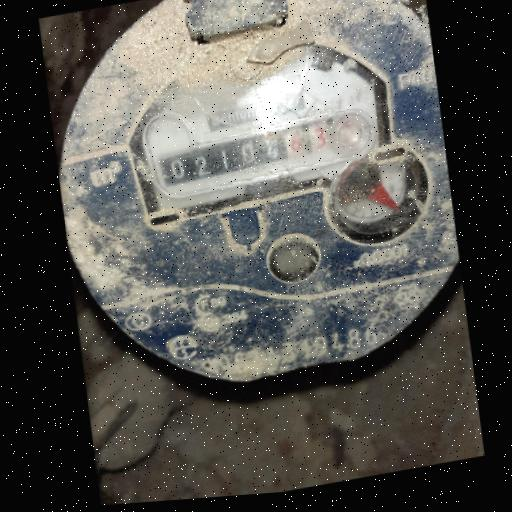0: (233, 135, 262, 171), (166, 152, 190, 187)
1: (212, 140, 238, 176)
2: (187, 146, 216, 181)
3: (306, 119, 331, 153)
4: (259, 129, 288, 164)
6: (284, 124, 308, 158)
border_water_meter_number: (146, 103, 382, 205)
